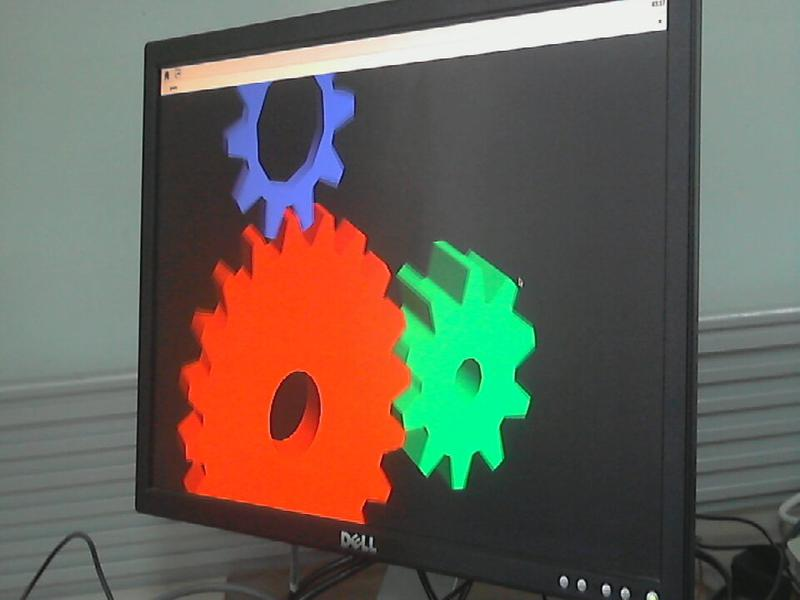glxgears_pass: (158, 64, 542, 529)
